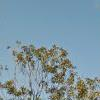Tree: (15, 30, 91, 100)
